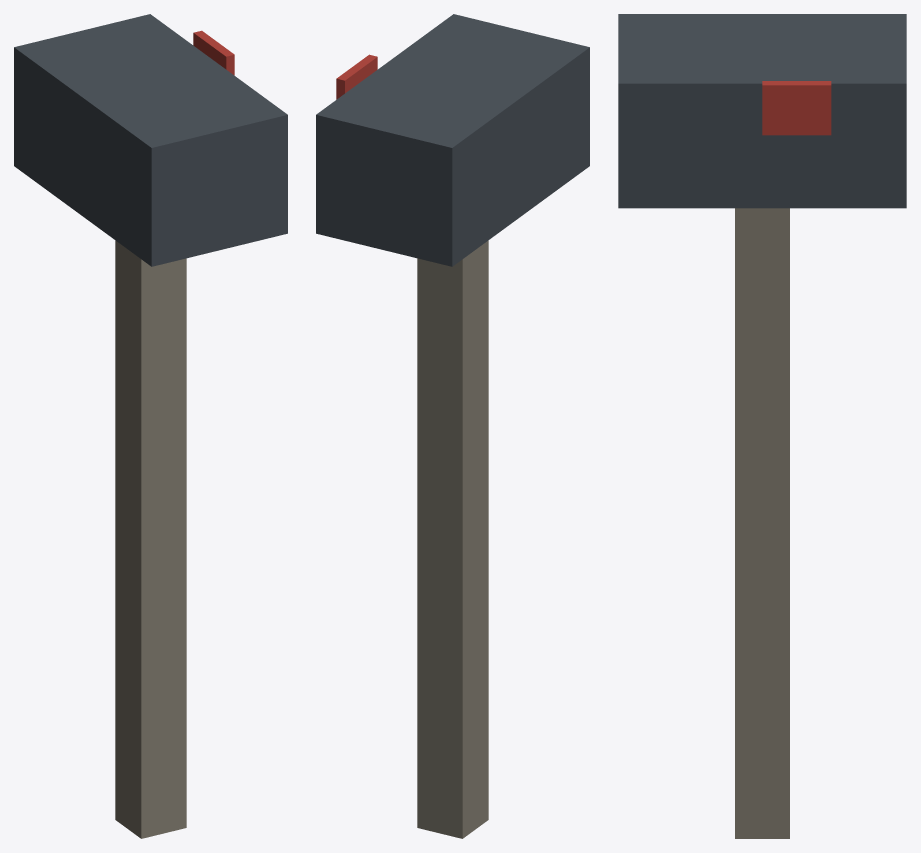
The model's file is GT_MailboxPost_01.glb.
3 views of the same model, side by side, from view 1: azimuth 30°, elevation 25°; view 2: azimuth 150°, elevation 25°; view 3: azimuth 270°, elevation 25° (orthographic). The views are drawn at different scales.
Parts seen in each view (by area): view 1: GT_MailboxPost_01; view 2: GT_MailboxPost_01; view 3: GT_MailboxPost_01.
Part boxes in pixels (bbox=[...]): GT_MailboxPost_01: bbox=[14, 14, 287, 838]; GT_MailboxPost_01: bbox=[316, 14, 589, 838]; GT_MailboxPost_01: bbox=[618, 14, 906, 838].
Size of the model in its own units: 0.2675 by 1.26 by 0.42.
1 material, 1 textured.
